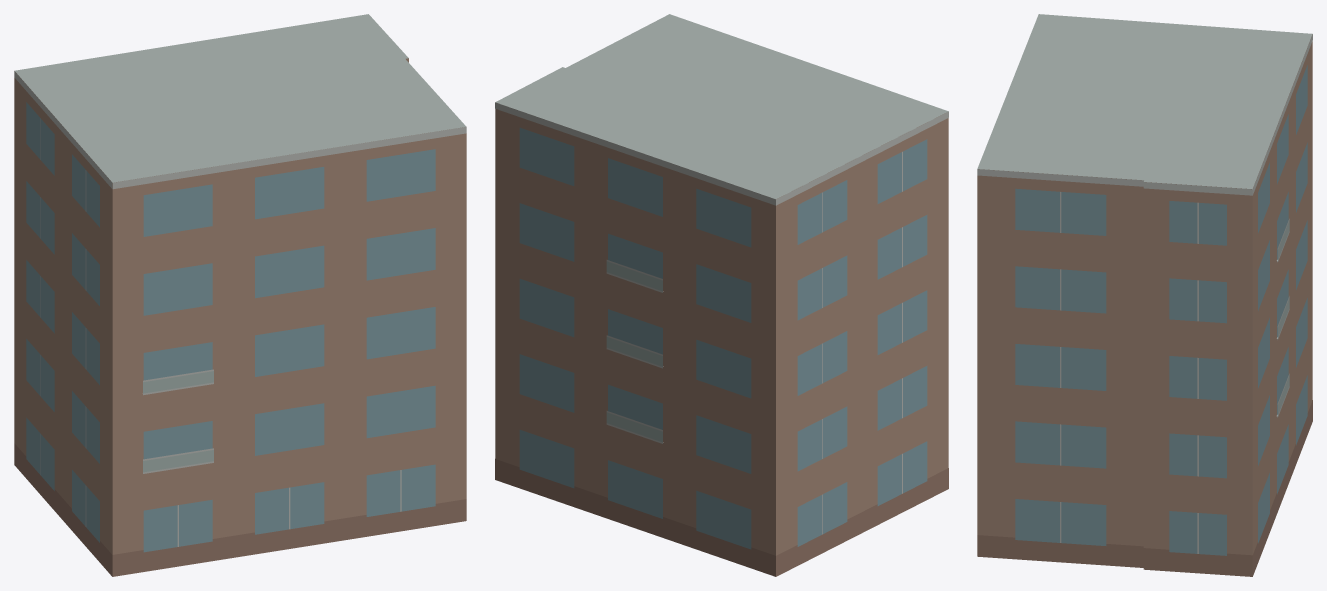
The model's file is survey-upis-32944084.glb.
3 renders of one model, left to right at view 1: azimuth 30°, elevation 25°; view 2: azimuth 150°, elevation 25°; view 3: azimuth 270°, elevation 25°, orthographic. The views are drawn at different scales.
Parts seen in each view (by area): view 1: survey-upis-32944084.tmp; view 2: survey-upis-32944084.tmp; view 3: survey-upis-32944084.tmp.
Part boxes in pixels (x1,y1,x2,y2): survey-upis-32944084.tmp: (14,14,466,576); survey-upis-32944084.tmp: (495,14,948,576); survey-upis-32944084.tmp: (977,14,1312,576).
Bounding box in the file's own units: 14.06 × 14.5 × 11.38.
